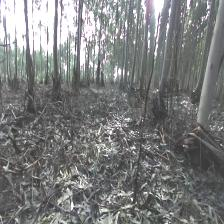trunk: (195, 0, 223, 133), (157, 4, 177, 98), (138, 4, 150, 91), (23, 3, 34, 92), (53, 4, 60, 92)
